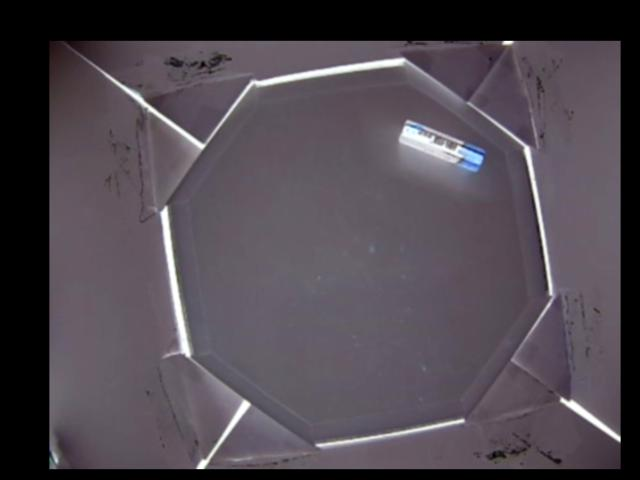Battery: (399, 119, 486, 171)
